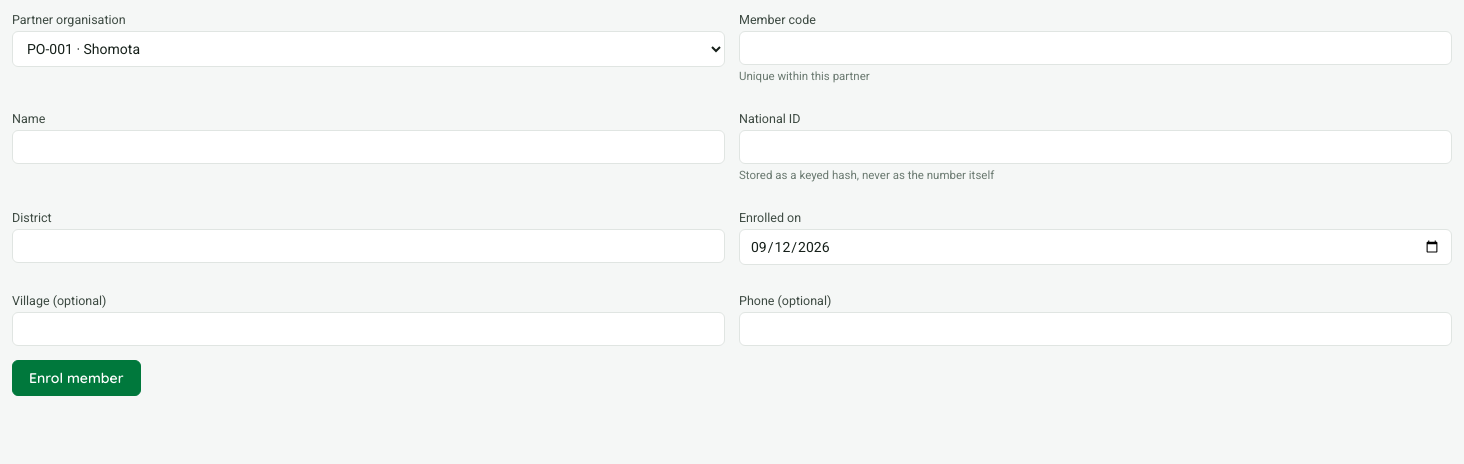
EnrolMemberForm › shows a business-rule refusal, such as a duplicate national ID
Select "PO-001 · Shomota" in the dropdown labelled "Partner organisation" at coordinates (368, 49), box [12, 31, 725, 67]
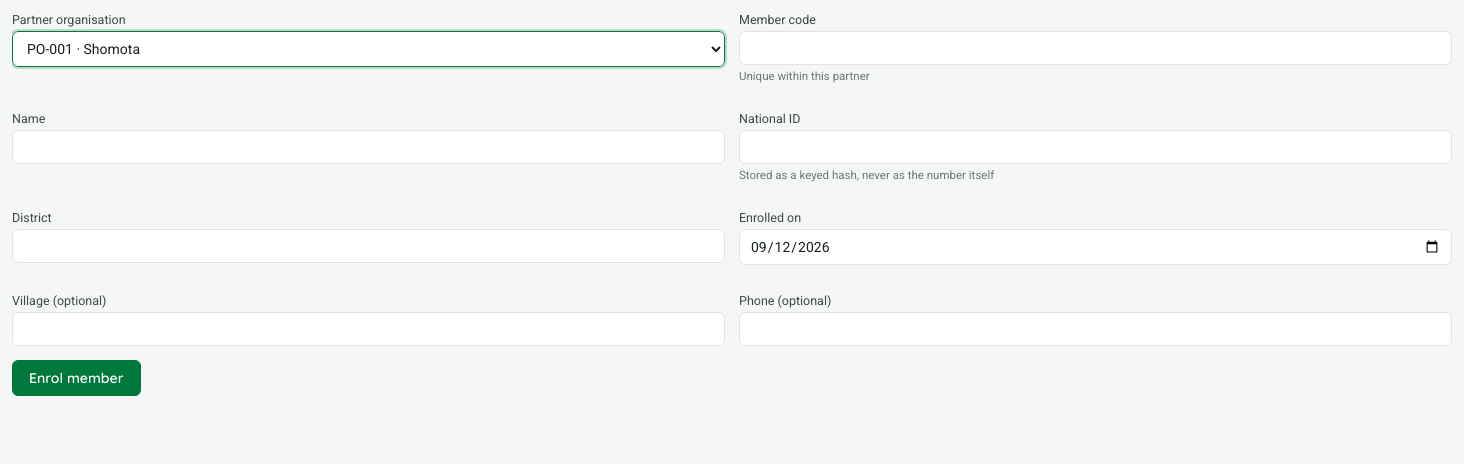
Type "M-0001" into the field labelled "Member code" at coordinates (1096, 48), box [739, 31, 1452, 65]
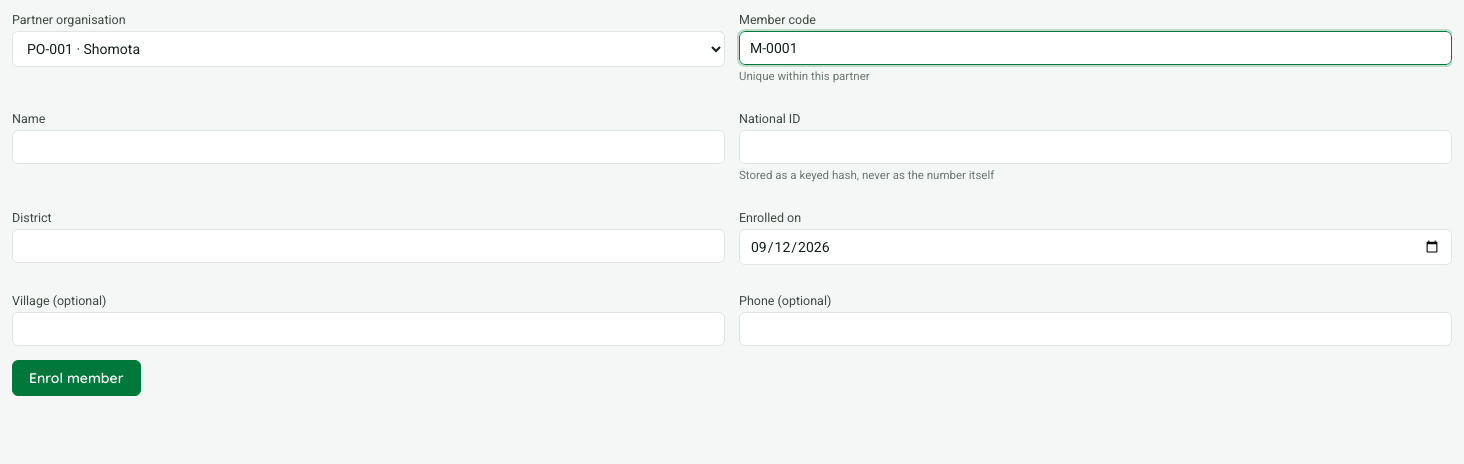
Type "Rahima Begum" into the field labelled "Name" at coordinates (368, 147), box [12, 130, 725, 164]
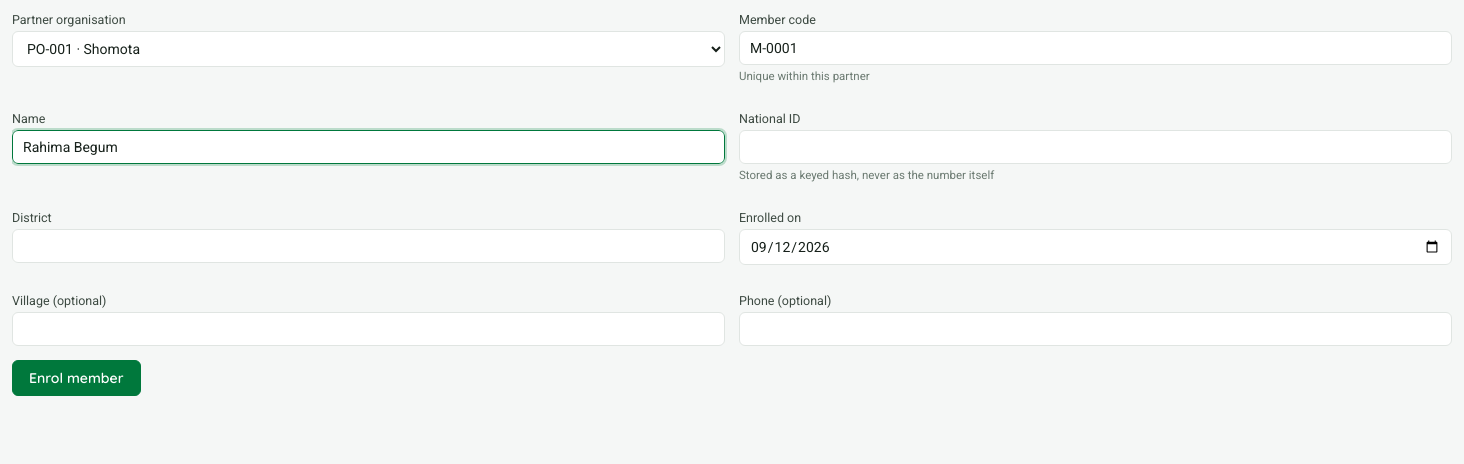
Type "1990123456789" into the field labelled "National ID" at coordinates (1096, 147), box [739, 130, 1452, 164]
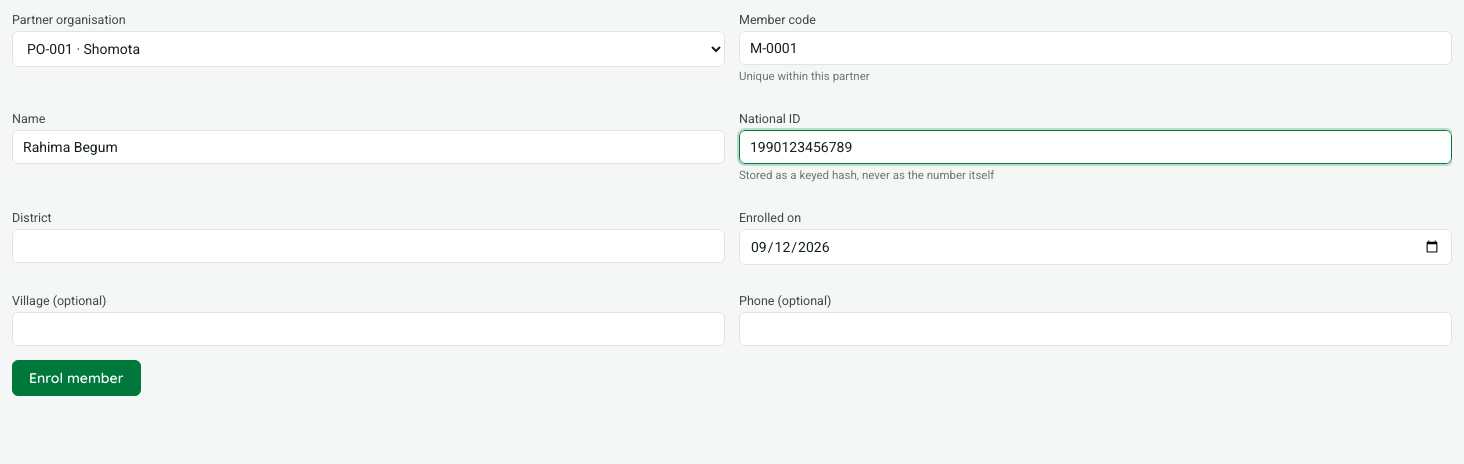
Type "Rangpur" into the field labelled "District" at coordinates (368, 246), box [12, 229, 725, 263]
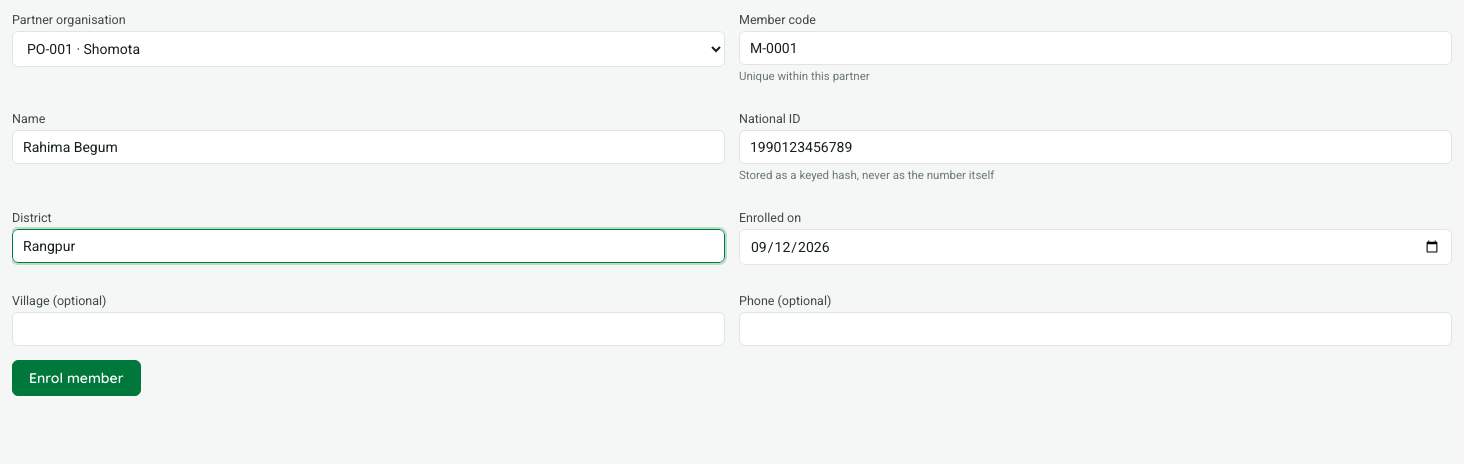
Click the button "Enrol member" at coordinates (76, 378), box [12, 360, 140, 396]
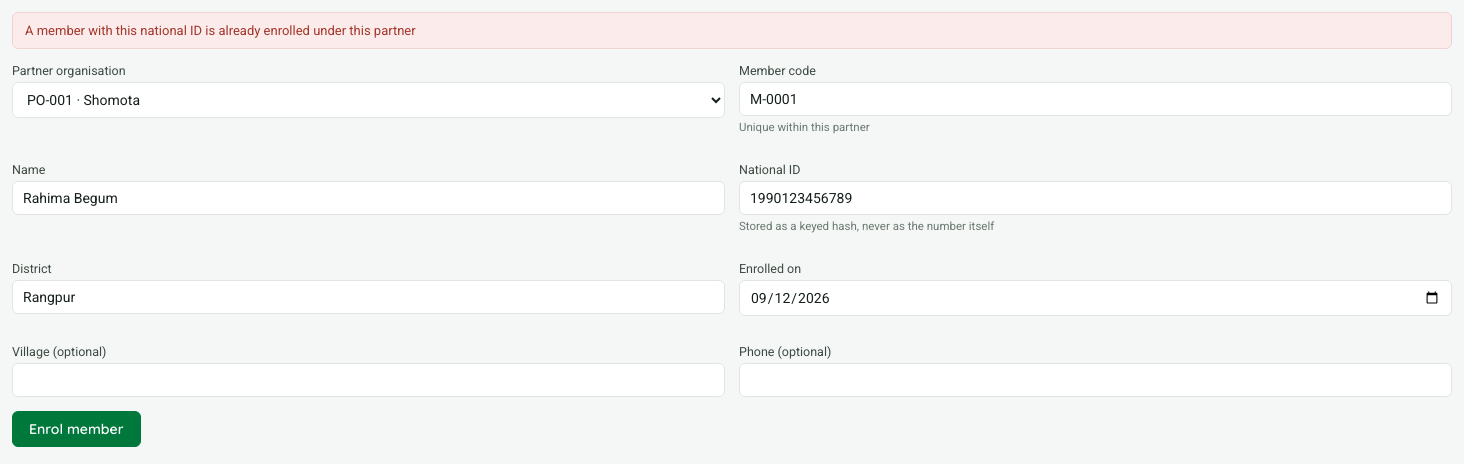
Check: the message shows "already enrolled under this partner", box [25, 23, 416, 38]
